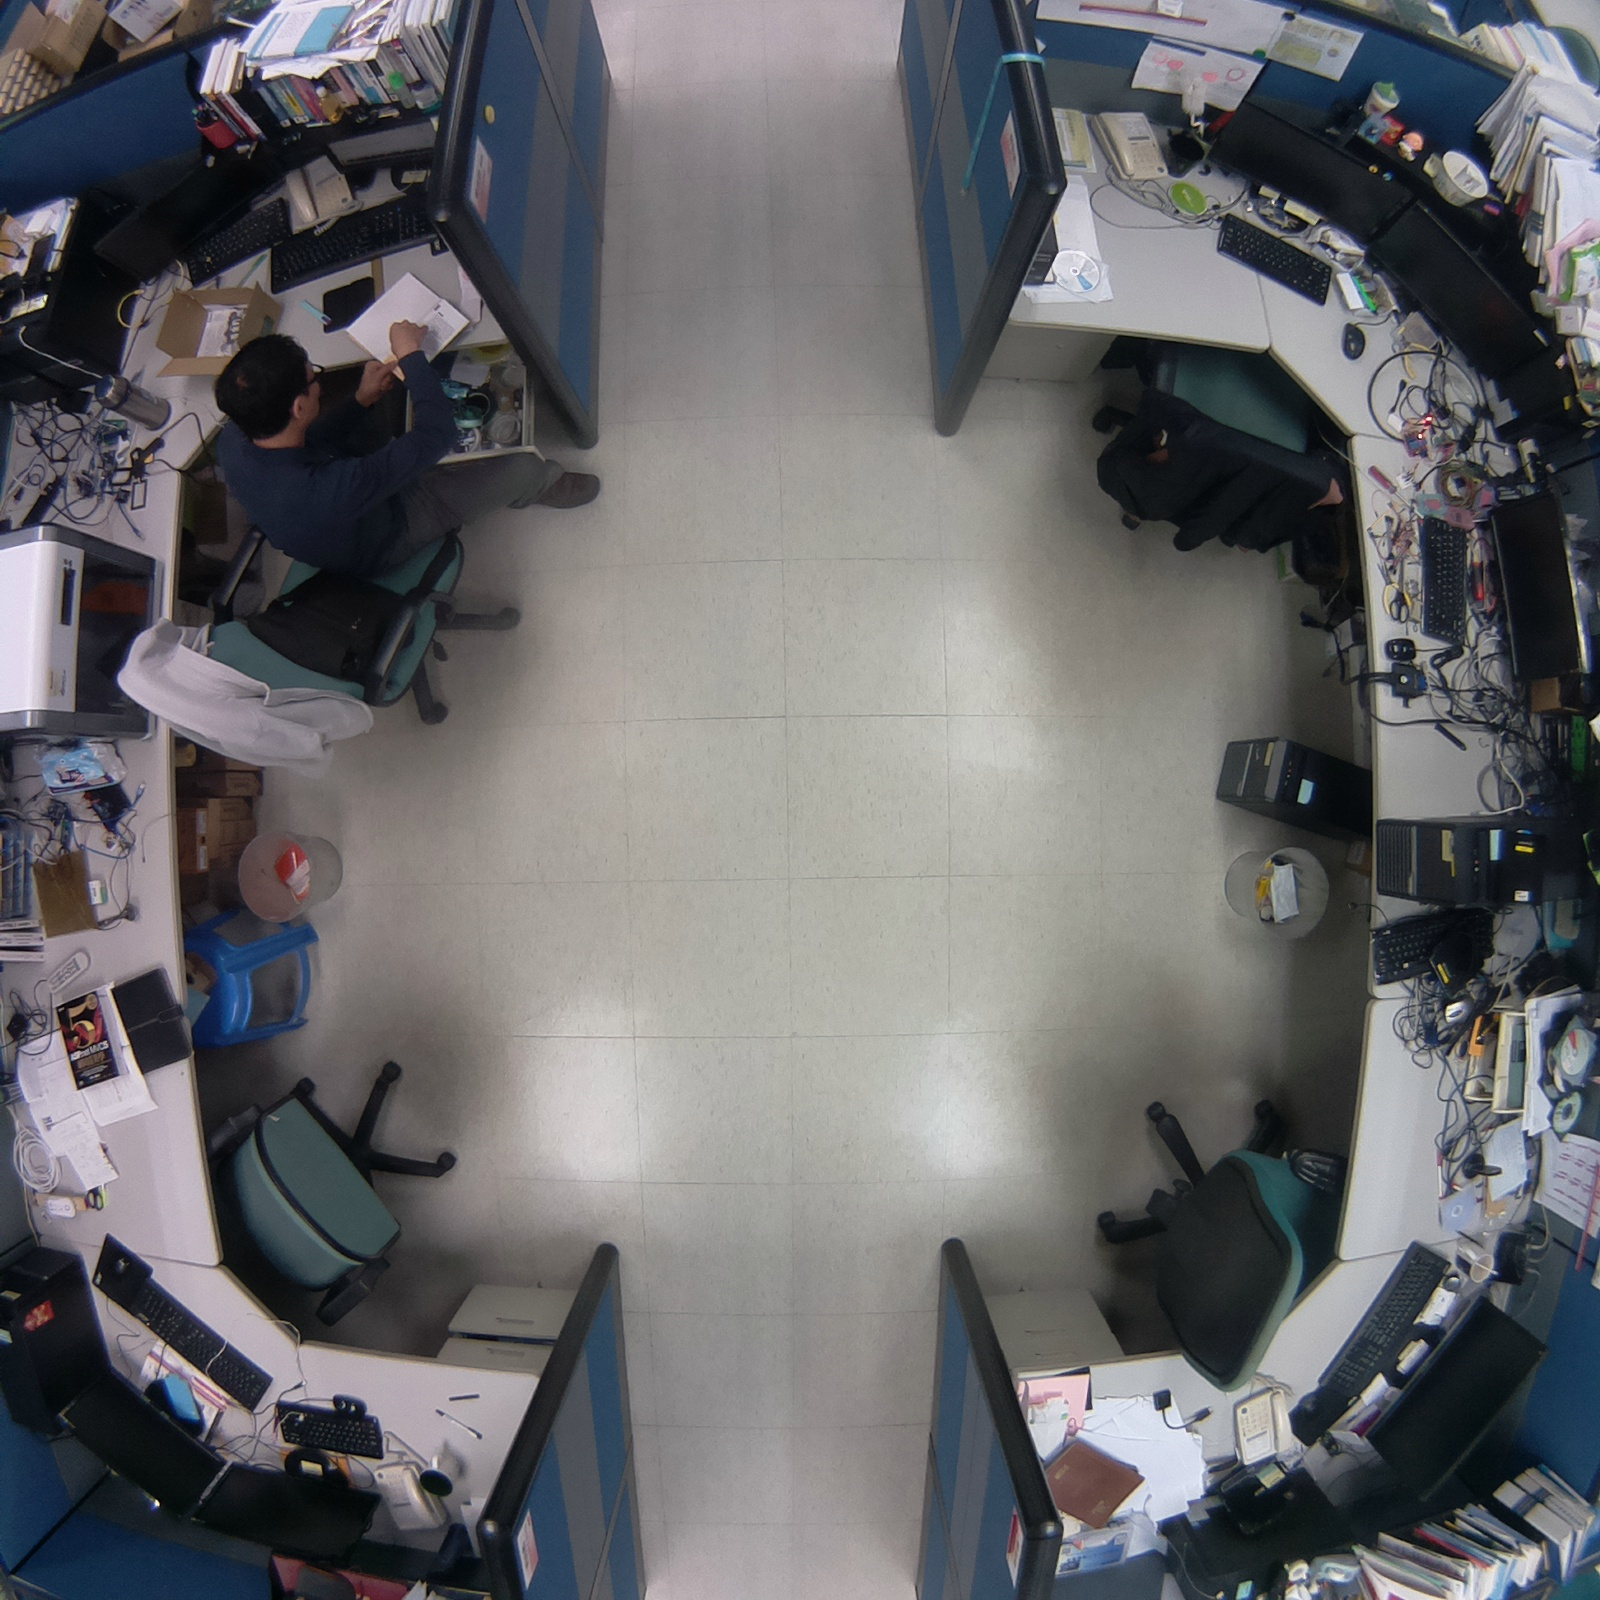chair: (1068, 1075, 1355, 1406), (183, 1042, 481, 1319), (1083, 317, 1360, 583)
head: (204, 327, 329, 436)
sitting: (104, 312, 614, 775)
